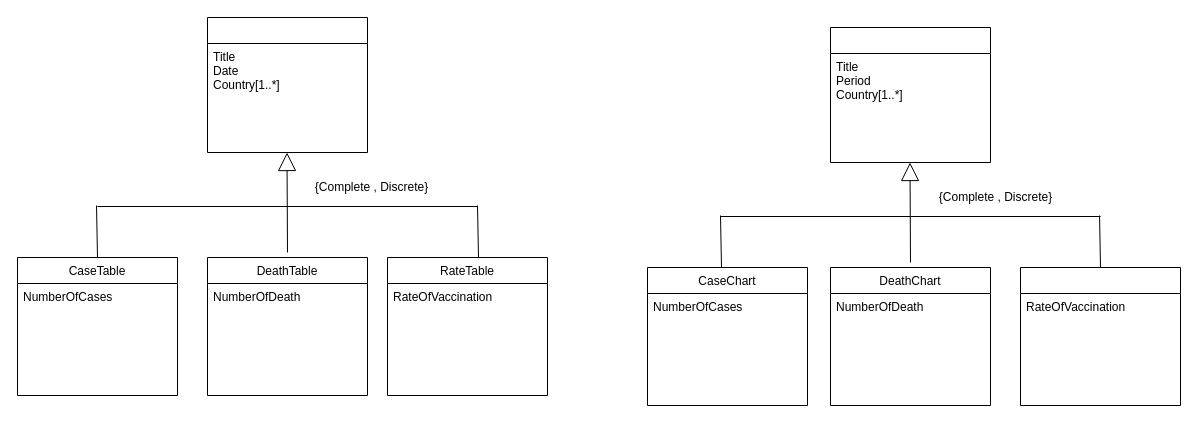
This 1198x423 diagram has some shape labels left out. Here are the shapes that lost their labels. From the top down, the box of each, then its label:
(206, 16, 368, 152): Table
(830, 26, 990, 162): Chart
(1020, 266, 1180, 406): RateChart
